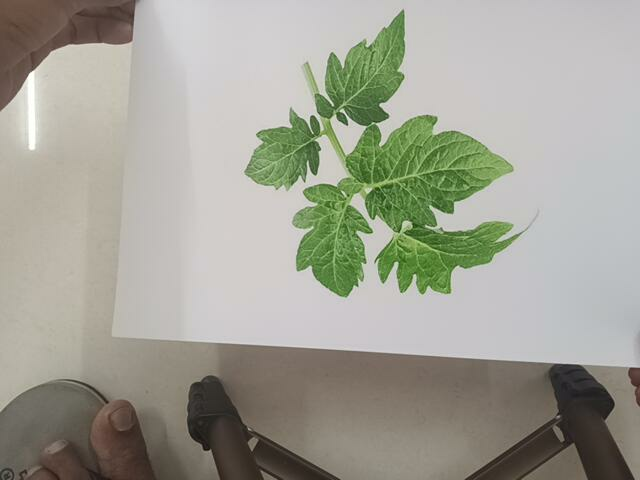Tomamto_Leaf_Healthy: (233, 26, 537, 307)
